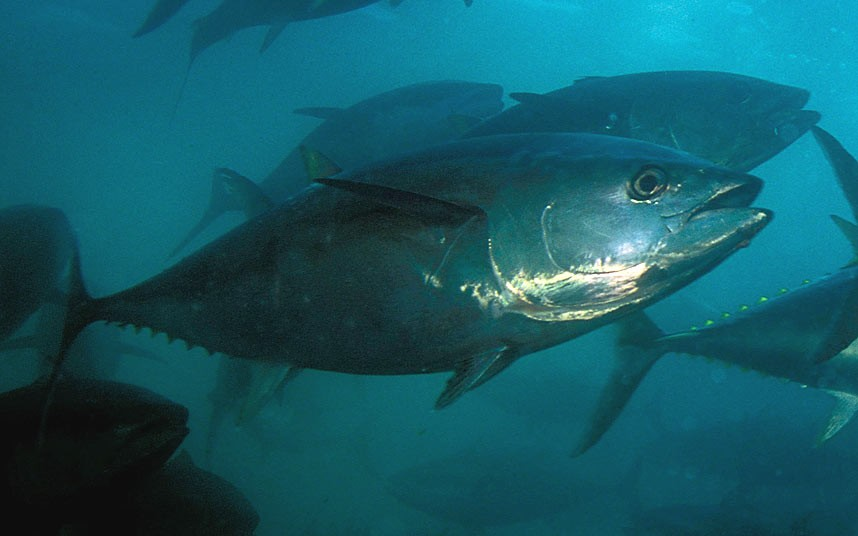Bluefina Tuna: (43, 119, 783, 413)
